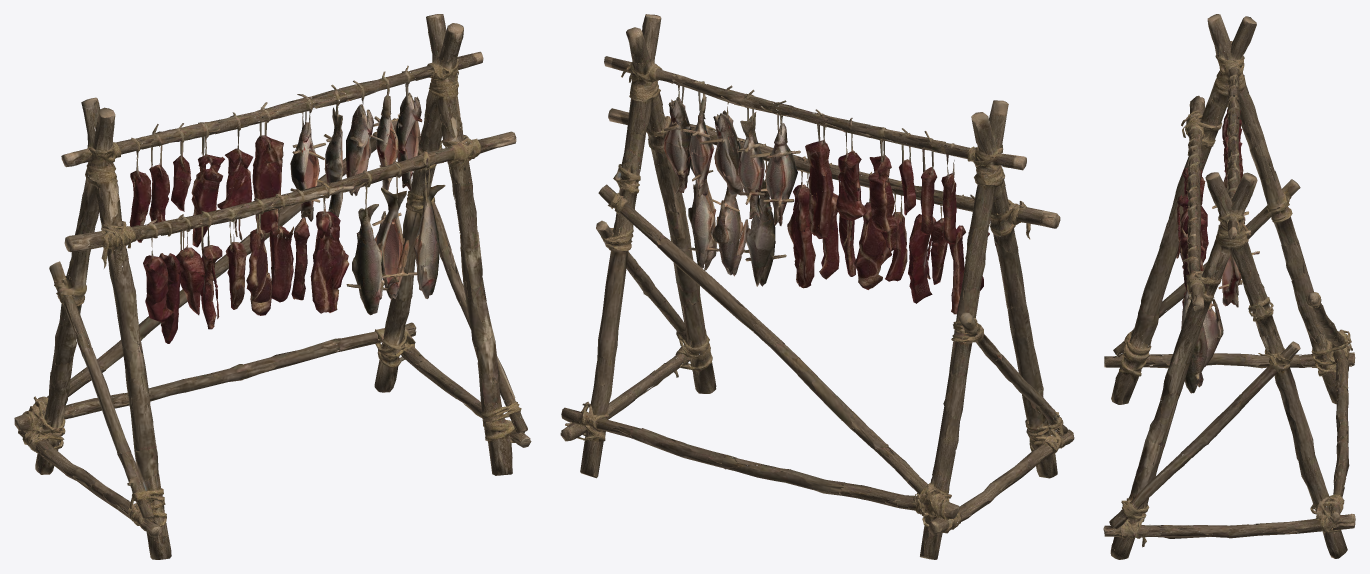
The model's file is drying-rack.glb.
3 views of the same model, side by side, from view 1: azimuth 30°, elevation 25°; view 2: azimuth 150°, elevation 25°; view 3: azimuth 270°, elevation 25° (orthographic). The views are drawn at different scales.
Visible parts, largest first — view 1: Mesh_0; view 2: Mesh_0; view 3: Mesh_0.
Part boxes in pixels (<box>): Mesh_0: <box>14,14,531,559</box>; Mesh_0: <box>560,14,1074,559</box>; Mesh_0: <box>1103,14,1355,559</box>.
Size of the model in its own units: 2.15 by 1.9 by 1.13.
1 material, 1 textured.
